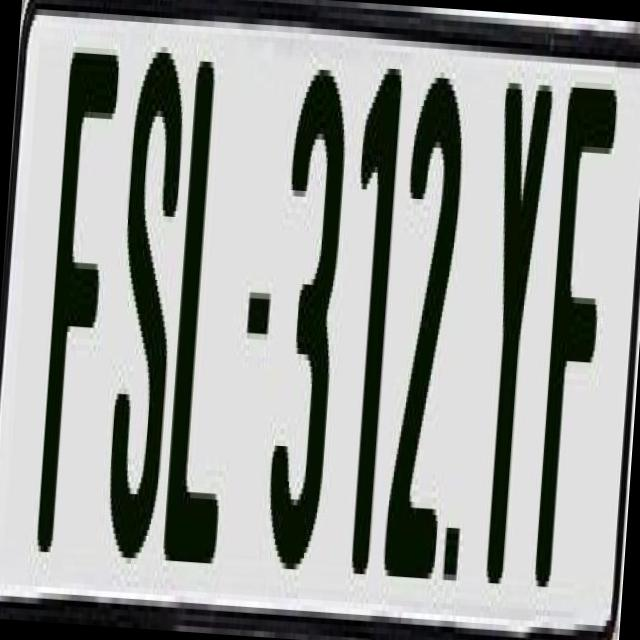1: (330, 60, 408, 580)
2: (377, 69, 470, 596)
3: (264, 50, 358, 554)
F: (34, 34, 120, 554), (534, 75, 620, 589)
L: (163, 49, 253, 552)
S: (100, 51, 193, 572)
Y: (468, 71, 556, 608)
